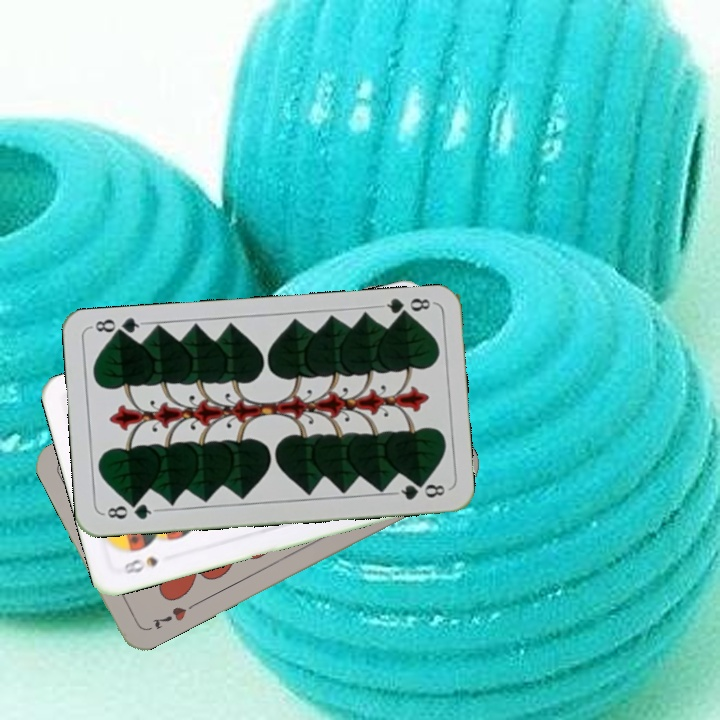G8: (376, 294, 435, 322), (100, 498, 159, 522)
H7: (148, 598, 199, 632)
S8: (116, 552, 161, 577)
